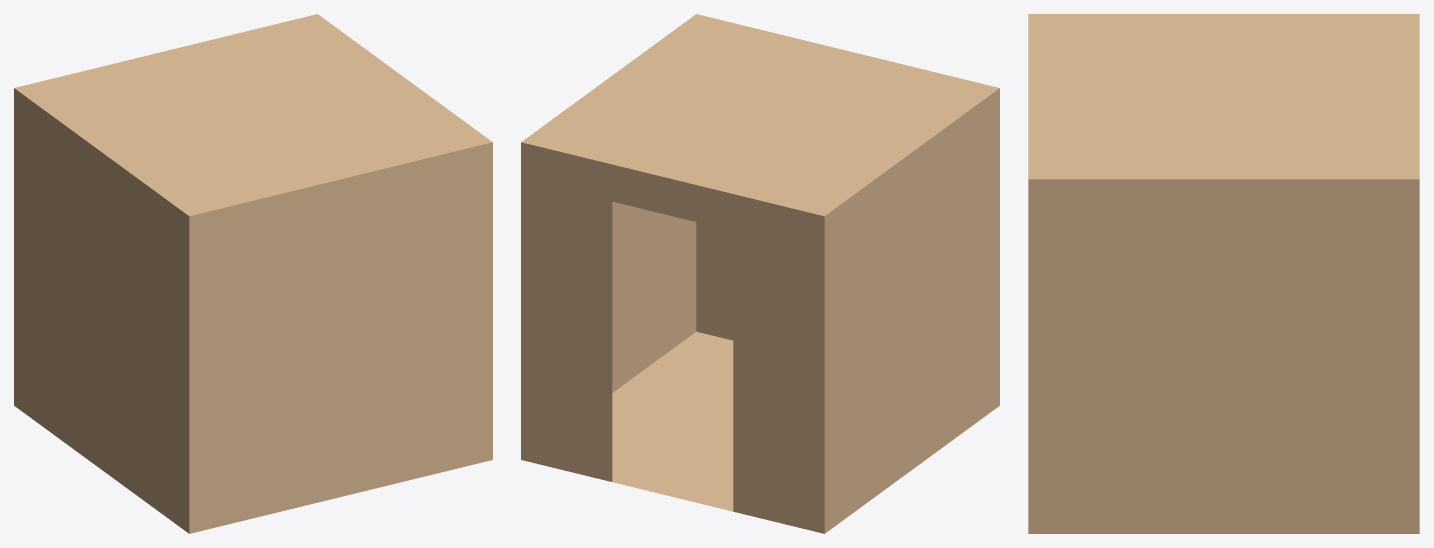
Rendered from door_room.glb.
The picture shows the model from 3 angles, left to right: view 1: azimuth 30°, elevation 25°; view 2: azimuth 150°, elevation 25°; view 3: azimuth 270°, elevation 25°; orthographic projection. The views are drawn at different scales.
Visible parts, largest first — view 1: Cube; view 2: Cube; view 3: Cube.
Part boxes in pixels (box(x1,y1,x2,y2)): Cube: box(14, 14, 492, 533); Cube: box(521, 14, 999, 533); Cube: box(1028, 14, 1419, 533).
Size of the model in its own units: 2.46 by 2.46 by 2.46.
